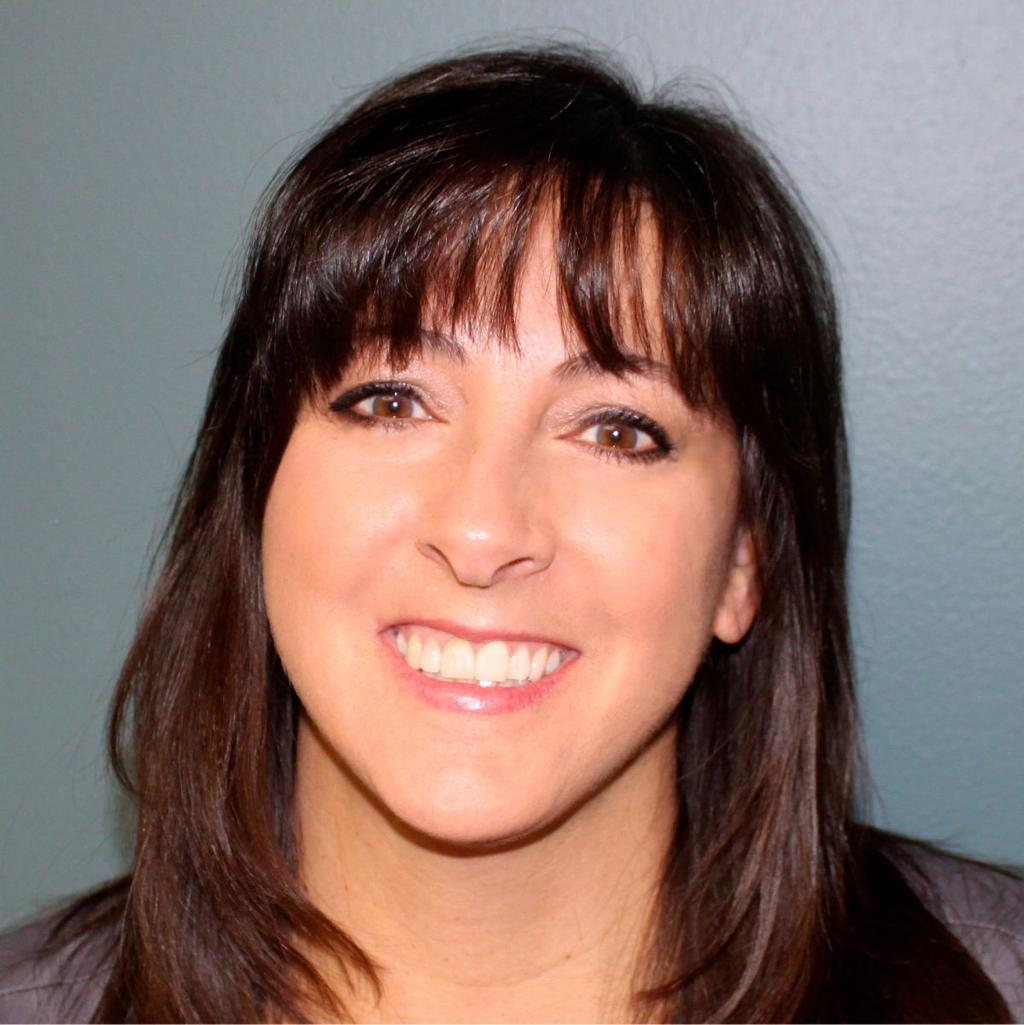face: (262, 216, 738, 848)
